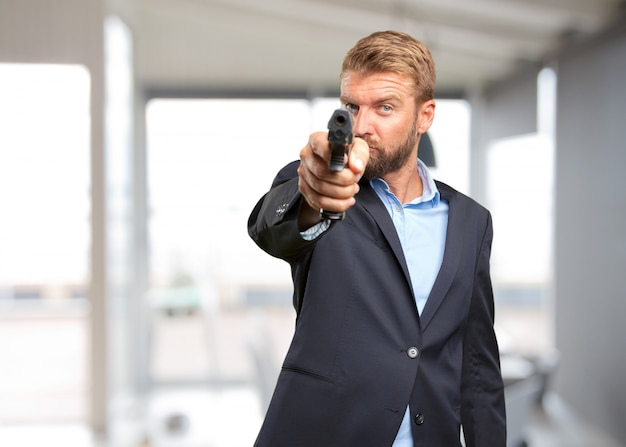gun: (323, 108, 353, 173)
